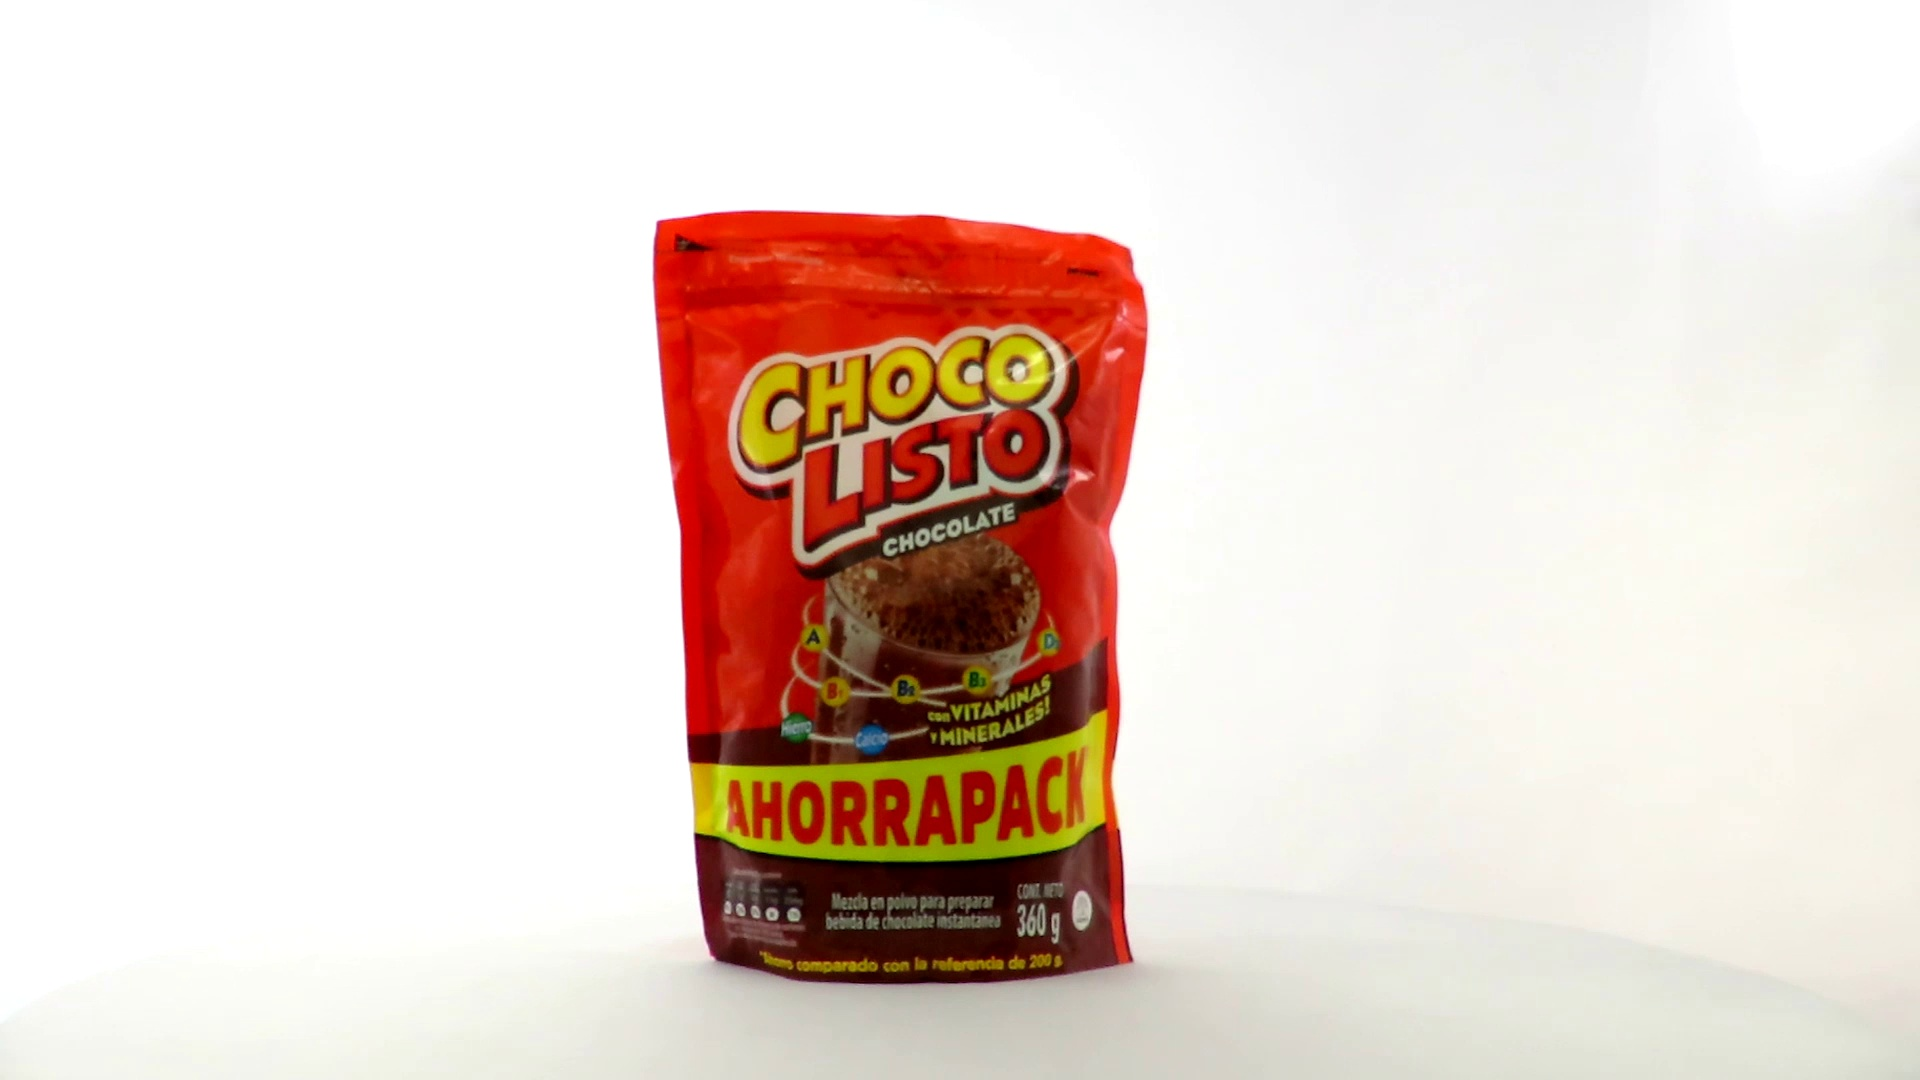COL0170103DYP36000: (647, 204, 1154, 992)
